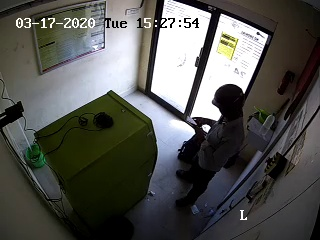helmet: (212, 82, 249, 122)
